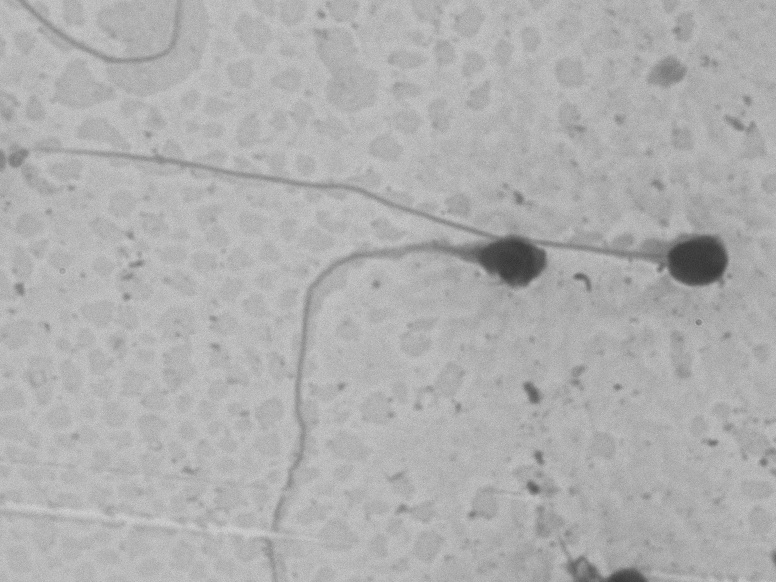Abnormal: (29, 133, 745, 299), (241, 227, 563, 563)
